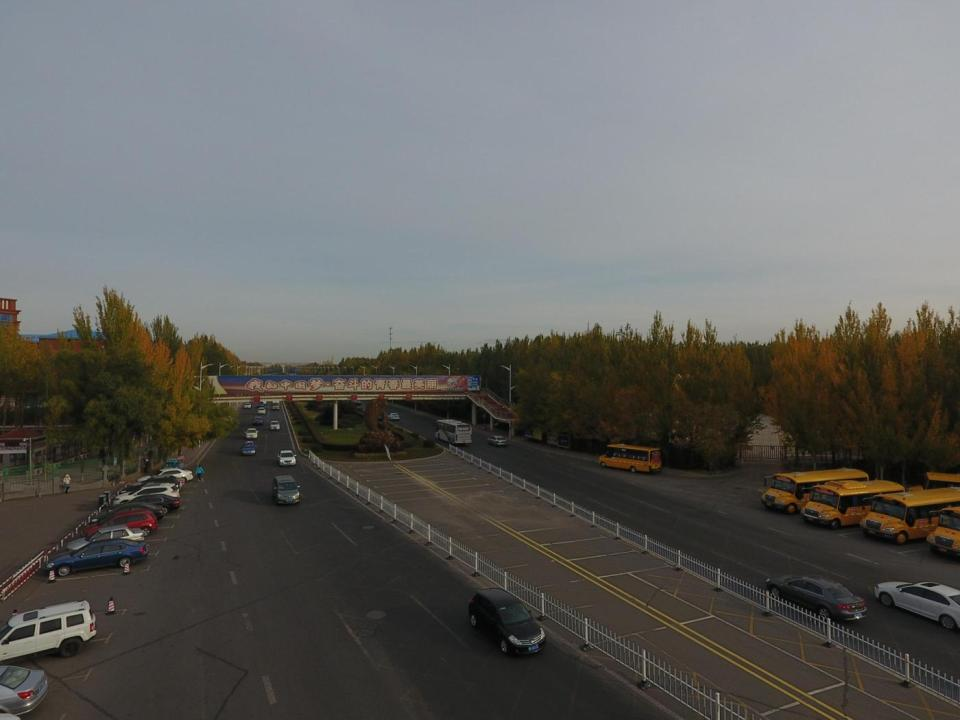bus: (858, 486, 960, 546), (758, 468, 872, 516), (801, 478, 905, 530), (599, 442, 664, 474), (925, 504, 960, 558), (908, 470, 960, 499), (432, 417, 474, 446)
car: (2, 596, 100, 660), (464, 587, 548, 656), (766, 572, 869, 626), (875, 576, 960, 629), (46, 538, 149, 574), (0, 662, 51, 715), (68, 523, 148, 552), (84, 509, 158, 536), (92, 503, 166, 524), (115, 482, 183, 504), (112, 494, 182, 513), (137, 469, 194, 486), (120, 479, 184, 494), (276, 447, 298, 468), (240, 439, 258, 458), (487, 434, 507, 447), (244, 426, 259, 440), (269, 418, 282, 432), (252, 414, 264, 425), (388, 411, 399, 421), (243, 402, 252, 411), (255, 406, 266, 413), (354, 398, 362, 406)
truck: (271, 399, 280, 411)
van: (272, 473, 301, 510)
